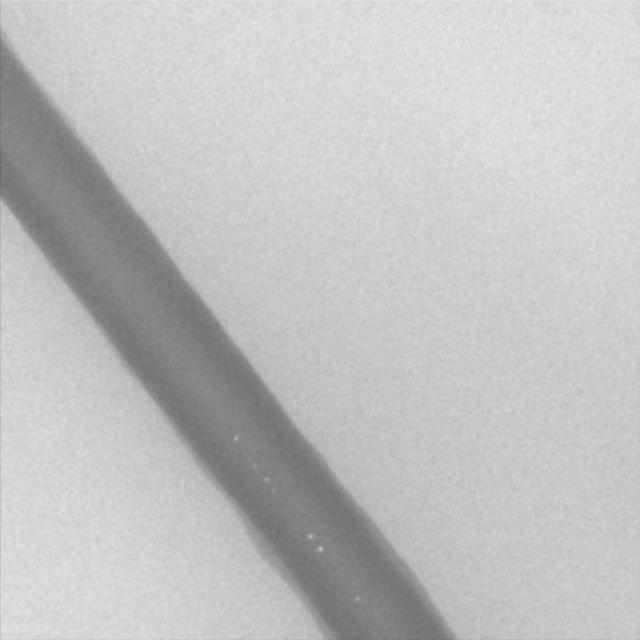air hole: (304, 530, 313, 541), (231, 432, 240, 443), (315, 544, 324, 554), (353, 595, 361, 603)
